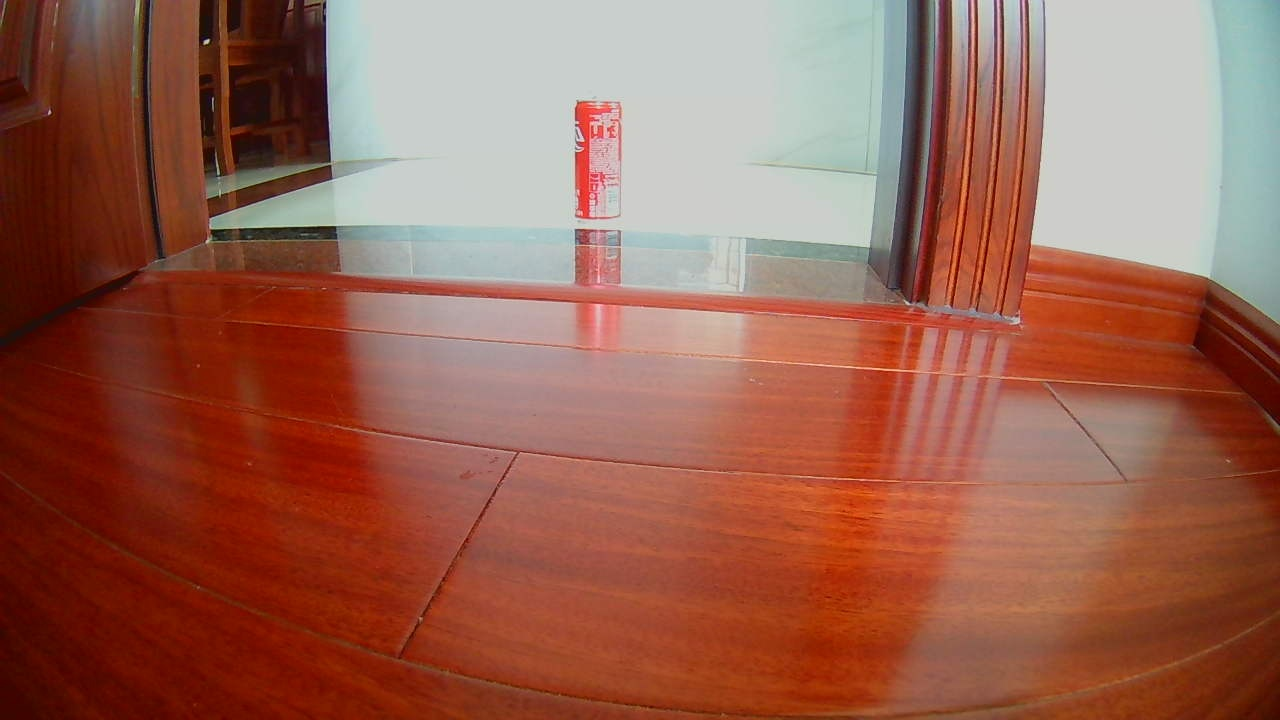cola: (571, 96, 624, 221)
